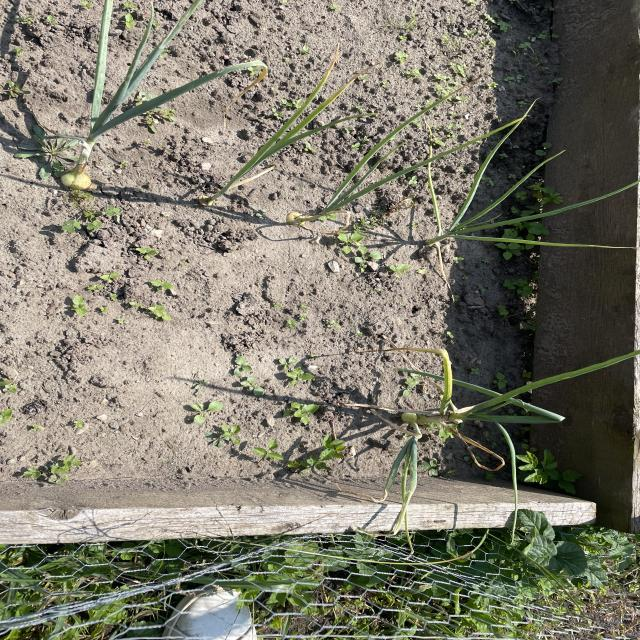Onion: (410, 134, 598, 252), (64, 21, 194, 184), (380, 383, 547, 500), (288, 114, 444, 222), (206, 85, 340, 204)
weed: (488, 154, 562, 313), (63, 246, 183, 327), (330, 230, 411, 282), (11, 121, 75, 178), (11, 450, 92, 494), (59, 200, 125, 235), (306, 432, 356, 476), (234, 354, 277, 398), (287, 397, 333, 427), (278, 354, 316, 390), (246, 442, 294, 469), (208, 422, 250, 452), (188, 397, 226, 425)
